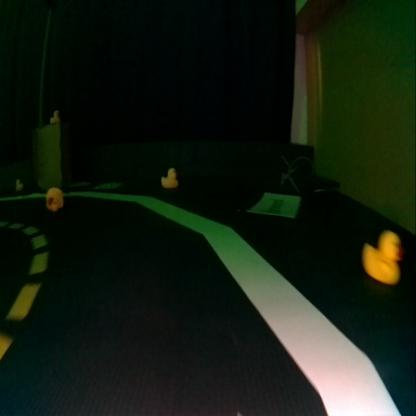Duckie: (364, 234, 401, 283), (46, 188, 63, 209), (162, 170, 178, 187), (51, 112, 59, 121), (15, 180, 22, 189)
QR code: (94, 182, 120, 189)
